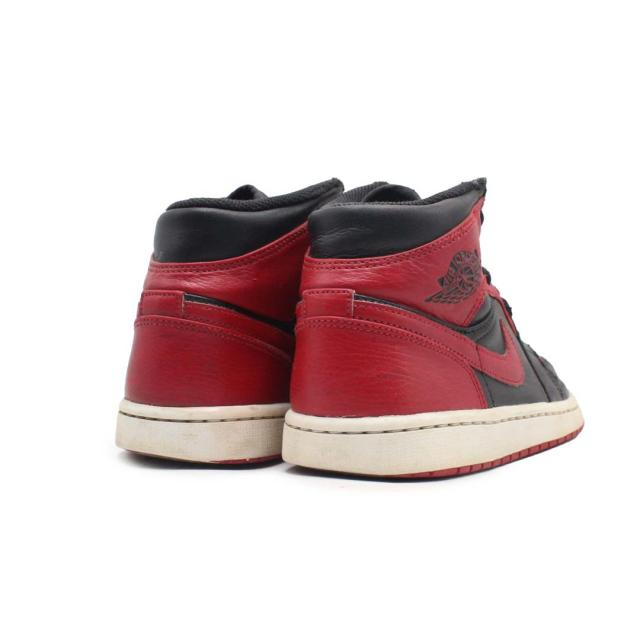heel: (124, 178, 336, 408), (290, 186, 489, 418)
midsole: (279, 400, 582, 478), (115, 400, 291, 464)
